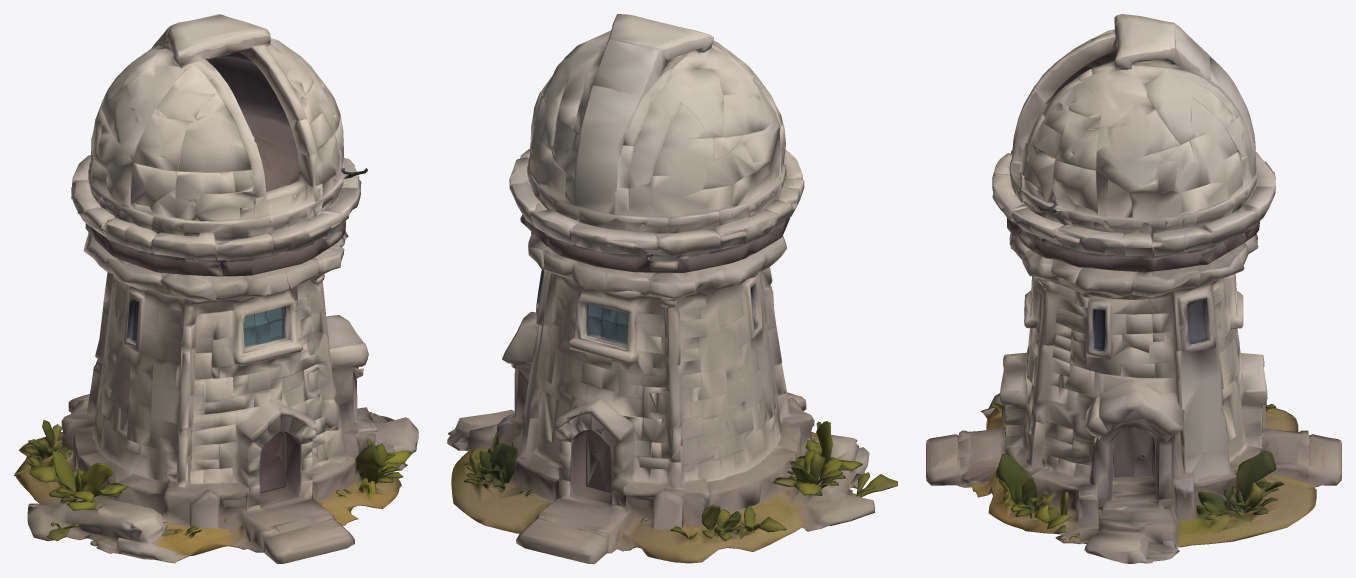
Rendered from bld_obs_dome.fbx.
The picture shows the model from 3 angles, left to right: view 1: azimuth 30°, elevation 25°; view 2: azimuth 150°, elevation 25°; view 3: azimuth 270°, elevation 25°; orthographic projection. The views are drawn at different scales.
Parts seen in each view (by area): view 1: bld_obs_dome_LOD0; view 2: bld_obs_dome_LOD0; view 3: bld_obs_dome_LOD0.
Boxes of the visible parts, x1,y1,x2,y2 form: bld_obs_dome_LOD0: [14, 14, 418, 563]; bld_obs_dome_LOD0: [447, 14, 897, 563]; bld_obs_dome_LOD0: [926, 14, 1341, 563].
Size of what is drawn, in the model's own units: 0.9288 by 0.9801 by 0.8444.
